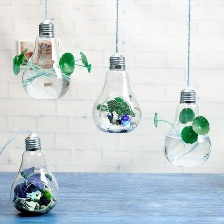light_bulb: (7, 131, 63, 218), (89, 48, 144, 135), (158, 86, 214, 171), (20, 17, 73, 102)
